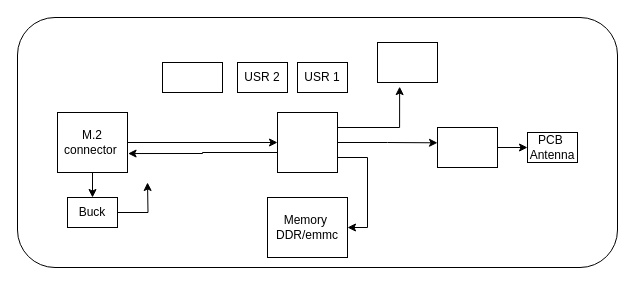
Some shapes in this 635 by 285 pixel diagram are drawn without their labels. Each missing label, with the centre of its shape:
"MCU BGA" goes at [307,142].
"PWR LED" goes at [192,77].
"RF chip" goes at [467,147].
"SD Card slot" goes at [407,62].
